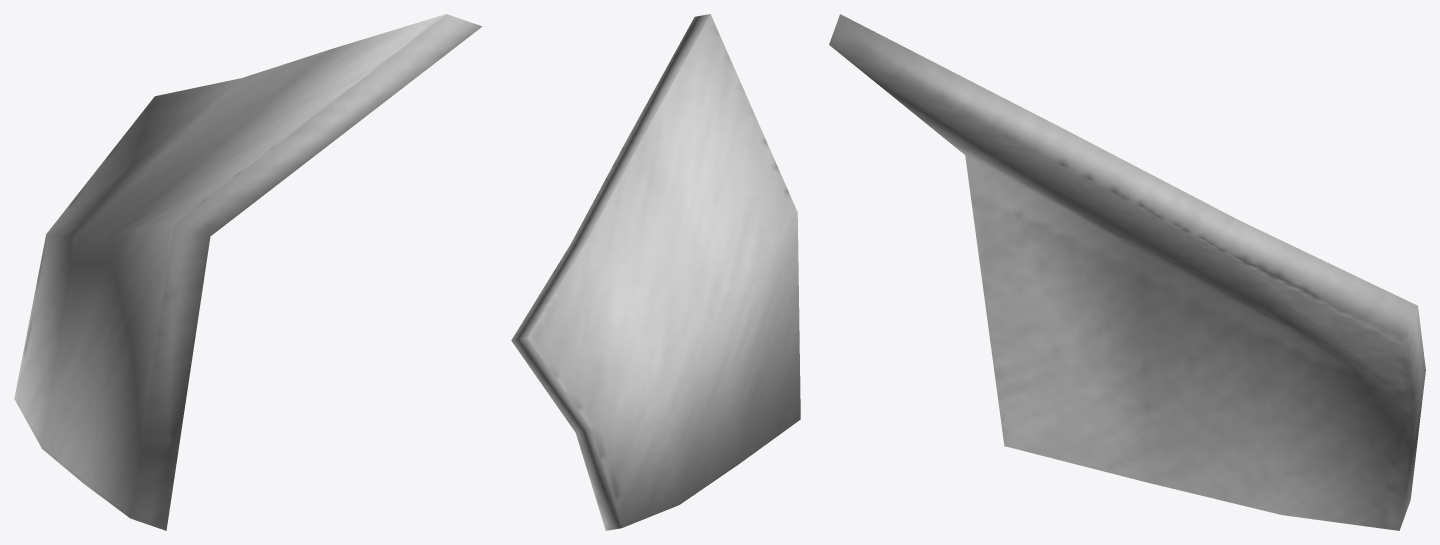
The model's file is ElipAla3Twin.fbx.
3 renders of one model, left to right at view 1: azimuth 30°, elevation 25°; view 2: azimuth 150°, elevation 25°; view 3: azimuth 270°, elevation 25°, orthographic. The views are drawn at different scales.
Visible parts, largest first — view 1: Sphere.007; view 2: Sphere.007; view 3: Sphere.007.
Part boxes in pixels (x1,y1,x2,y2): Sphere.007: (14,14,482,530); Sphere.007: (511,14,800,530); Sphere.007: (829,14,1425,530).
Bounding box in the file's own units: 0.3858 × 0.8168 × 0.7704.
